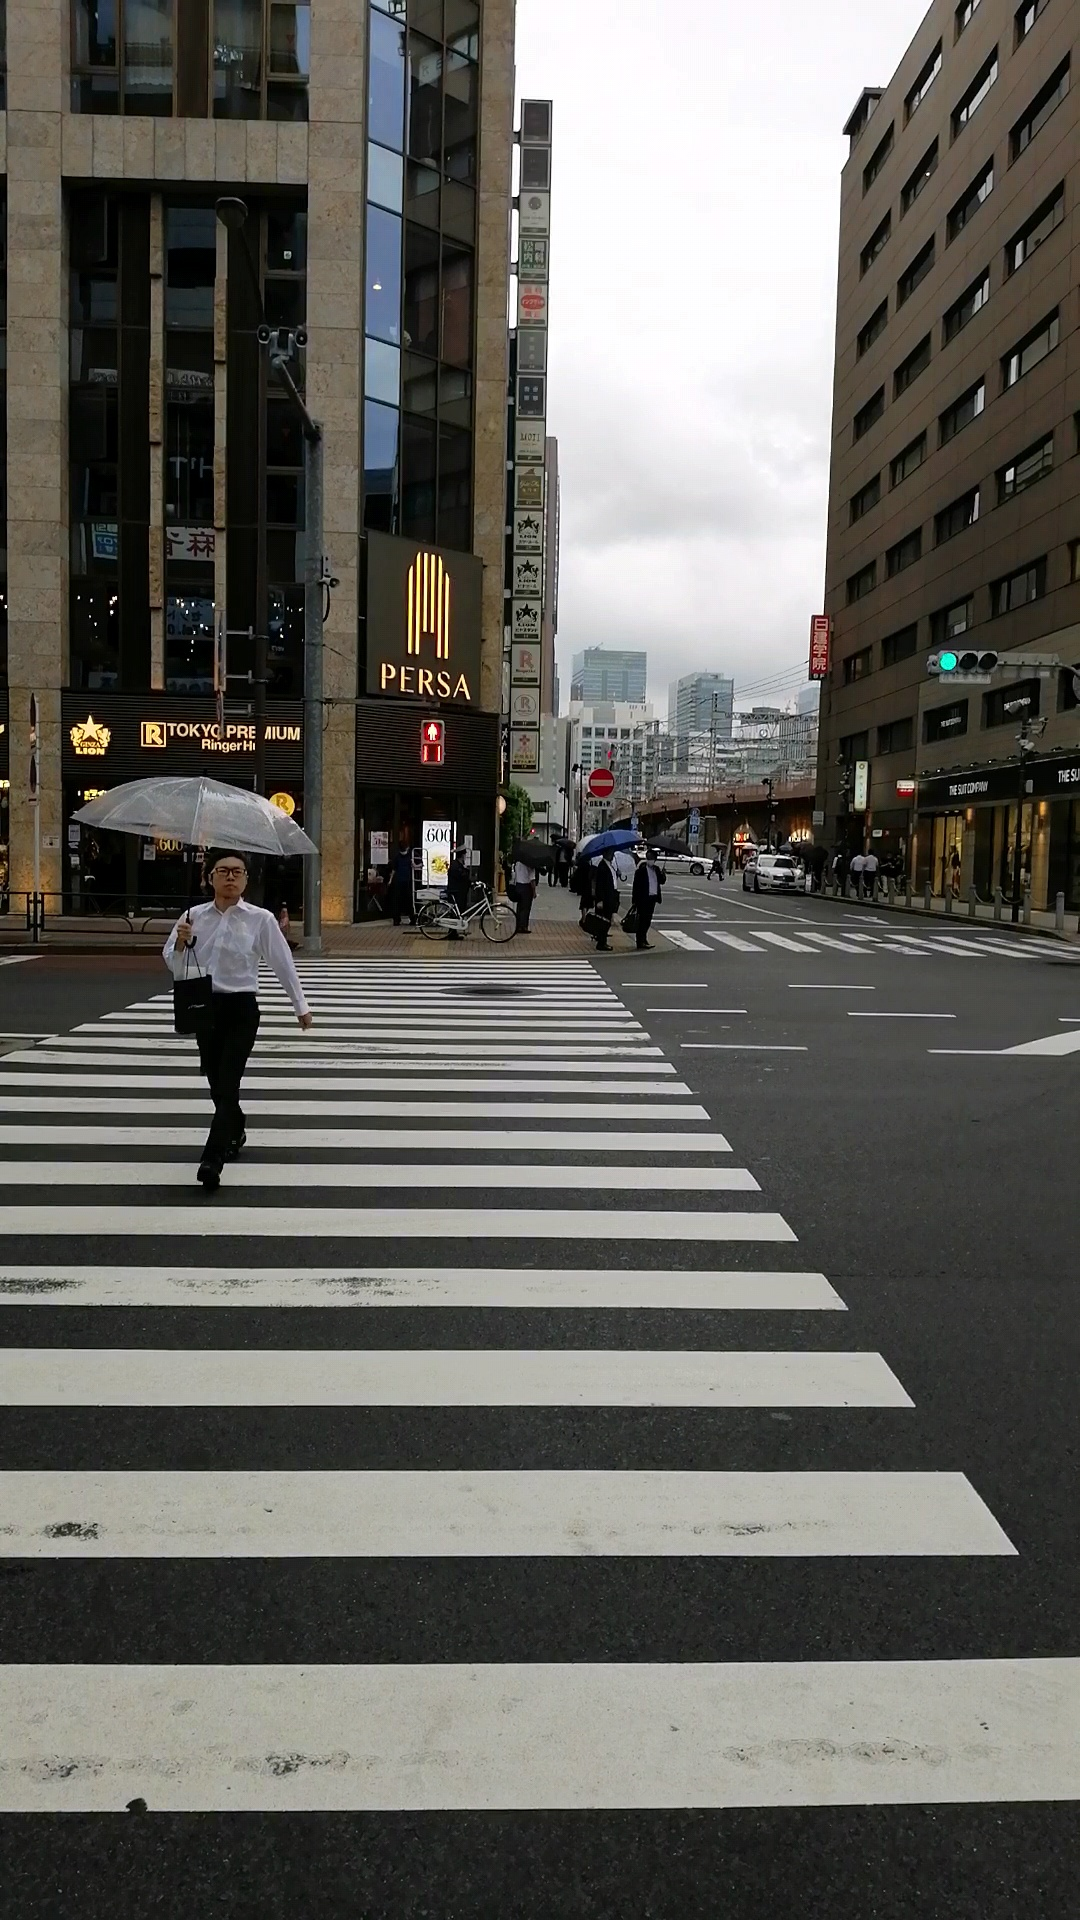red: (419, 717, 443, 764)
